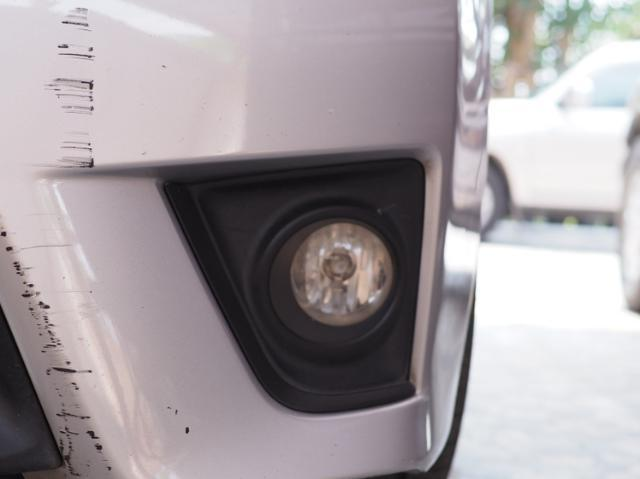Bumper: (0, 0, 180, 479)
